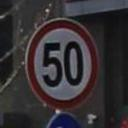speed_limit_50: (24, 18, 100, 110)
